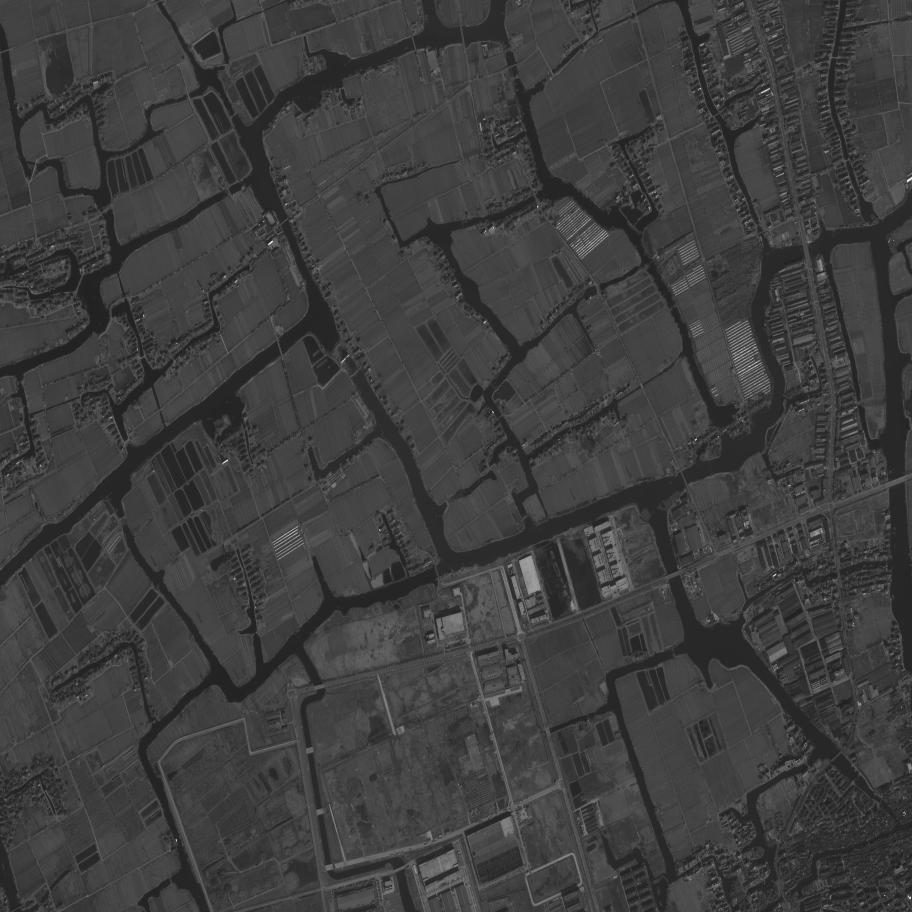storage-tank: (811, 683, 813, 685), (820, 679, 822, 681), (824, 677, 826, 679), (814, 684, 816, 686), (817, 685, 819, 687), (813, 683, 814, 685), (814, 682, 815, 684), (815, 682, 816, 684), (816, 681, 817, 683), (817, 681, 819, 682), (822, 679, 823, 681), (826, 677, 827, 679), (812, 685, 813, 687), (813, 685, 814, 687), (815, 684, 817, 685), (817, 683, 818, 685), (812, 687, 813, 689), (774, 669, 775, 671), (777, 667, 778, 669), (823, 680, 825, 681), (813, 687, 815, 688), (815, 686, 816, 688), (816, 685, 817, 687), (819, 684, 820, 686), (821, 681, 822, 683), (822, 681, 824, 682), (825, 679, 826, 681), (826, 679, 827, 681), (823, 682, 824, 684), (825, 681, 826, 683), (827, 681, 828, 683), (823, 678, 824, 679), (818, 683, 819, 684), (773, 667, 774, 668), (774, 667, 775, 668), (775, 666, 776, 667), (776, 665, 777, 666), (773, 668, 774, 669), (774, 668, 775, 669), (775, 667, 776, 668), (776, 667, 777, 668), (777, 666, 778, 667), (775, 669, 776, 670), (776, 668, 777, 669), (776, 664, 777, 665), (775, 665, 776, 666), (774, 665, 775, 666), (773, 666, 774, 667), (822, 683, 823, 684), (824, 682, 825, 683), (776, 665, 776, 666), (776, 668, 776, 670), (773, 666, 773, 667)
